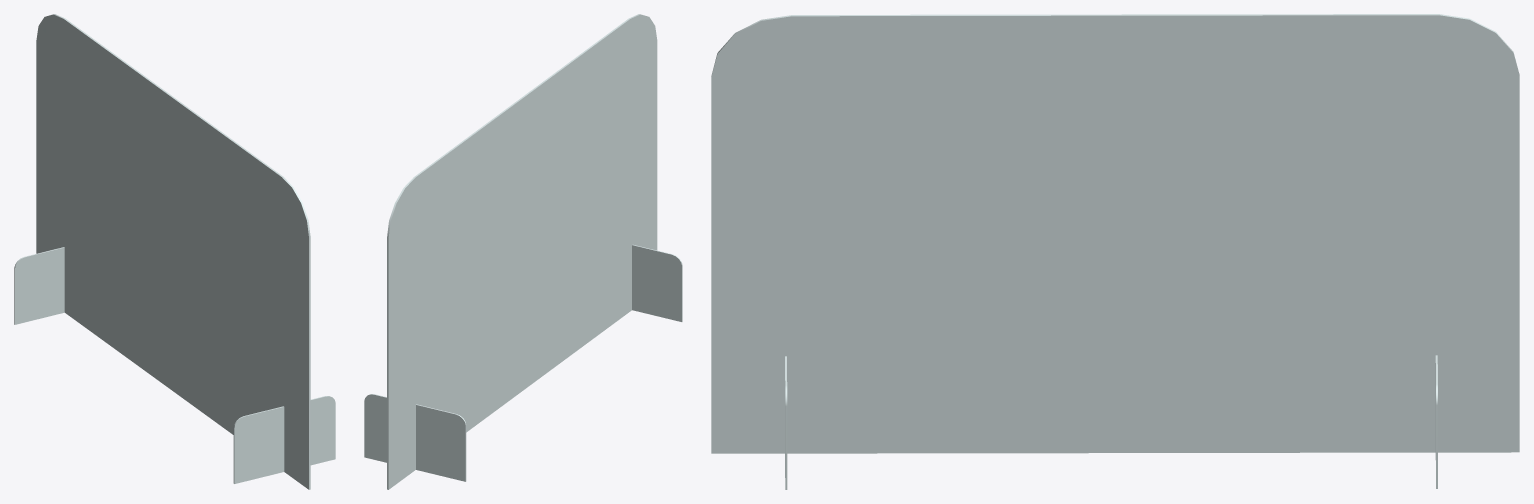
Rendered from CDC_Glass.fbx.
The picture shows the model from 3 angles, left to right: view 1: azimuth 30°, elevation 25°; view 2: azimuth 150°, elevation 25°; view 3: azimuth 270°, elevation 25°; orthographic projection. The views are drawn at different scales.
Parts seen in each view (by area): view 1: CDC_Glass; view 2: CDC_Glass; view 3: CDC_Glass.
Boxes of the visible parts, x1,y1,x2,y2 form: CDC_Glass: [14, 14, 335, 489]; CDC_Glass: [364, 14, 682, 489]; CDC_Glass: [711, 14, 1519, 489].
Size of the model in its own units: 25.44 by 69.21 by 116.
